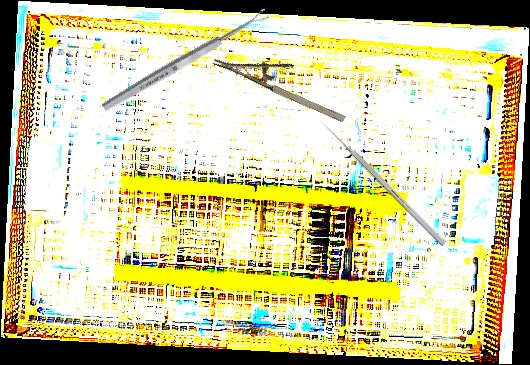Needle Holder: (212, 32, 356, 127)
Pusher: (317, 117, 447, 247)
Surgical Spoon: (100, 7, 271, 114)
